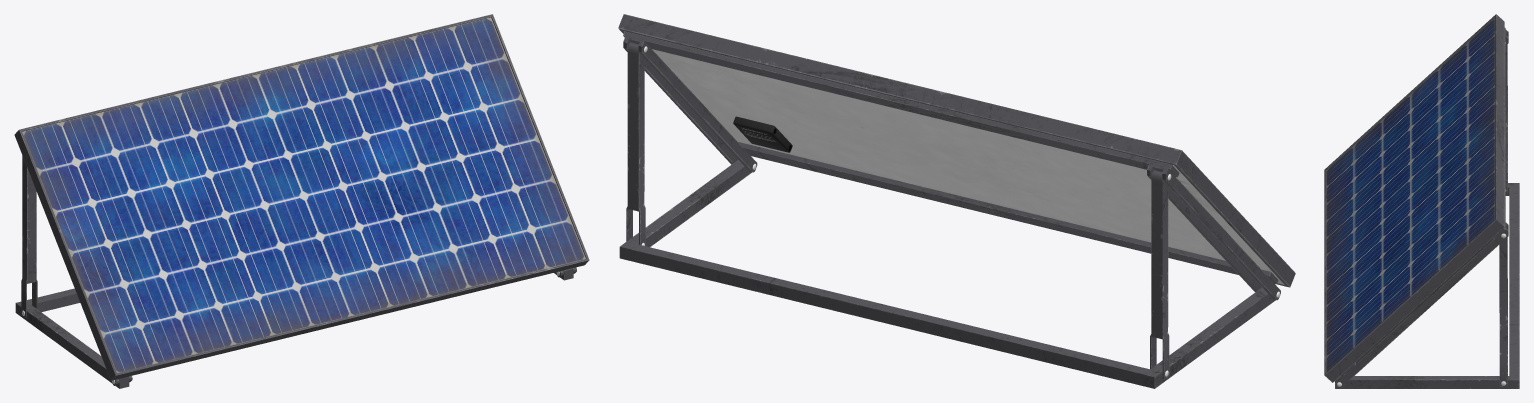
File: panel_solar.gltf
3 views of the same model, side by side, from view 1: azimuth 30°, elevation 25°; view 2: azimuth 150°, elevation 25°; view 3: azimuth 270°, elevation 25° (orthographic). The views are drawn at different scales.
Visible parts, largest first — view 1: SolarPanel; view 2: SolarPanel; view 3: SolarPanel.
Boxes of the visible parts, x1=… form: SolarPanel: x1=14, y1=14, x2=589, y2=388; SolarPanel: x1=618, y1=14, x2=1295, y2=388; SolarPanel: x1=1324, y1=14, x2=1519, y2=388.
Bounding box in the file's own units: 165 × 65.13 × 66.43.
Materials: 1 (1 with a texture image).
